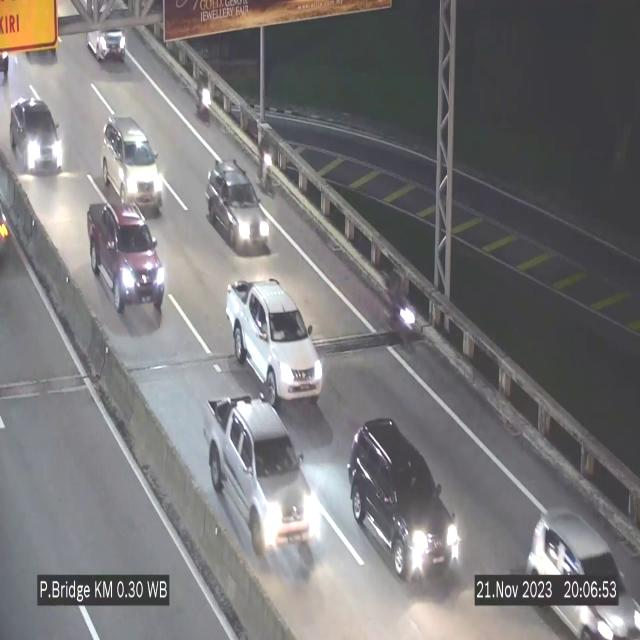Car: (201, 394, 318, 568), (348, 418, 461, 584), (525, 494, 640, 640), (226, 278, 323, 406), (87, 202, 165, 322), (206, 160, 270, 253), (102, 115, 163, 210), (8, 95, 63, 182), (85, 14, 131, 62)
Motorcycle: (387, 273, 417, 349), (195, 63, 212, 134), (257, 133, 277, 193)
